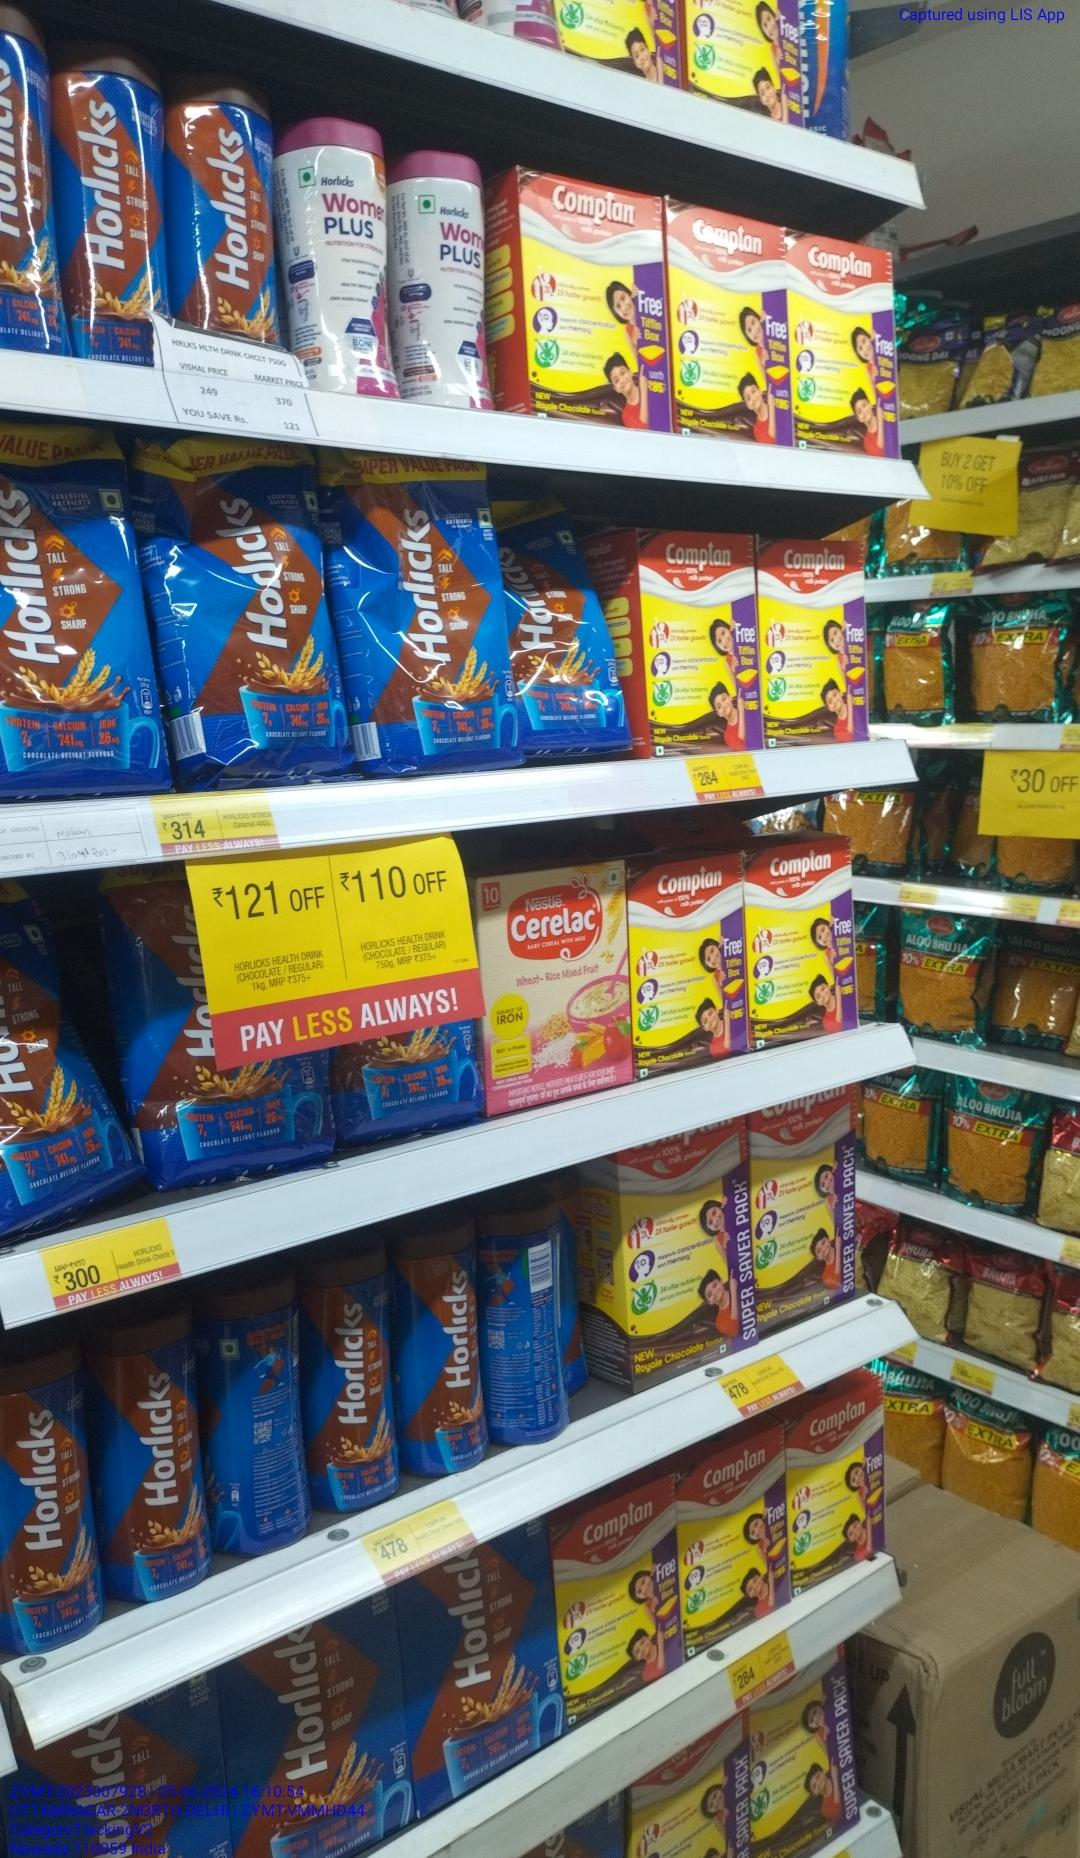HORLICK_CHOCOLATE_1_KG_JAR: (59, 51, 170, 363), (176, 82, 283, 345)
HORLICK_CHOCOLATE_500_G_JAR: (108, 1300, 216, 1610), (0, 1340, 103, 1663), (305, 1238, 399, 1511), (405, 1224, 489, 1470)
HORLICK_CHOCOLATE_750_G_POUCH: (0, 411, 153, 793), (171, 436, 347, 761), (361, 447, 504, 751), (509, 474, 620, 755)
